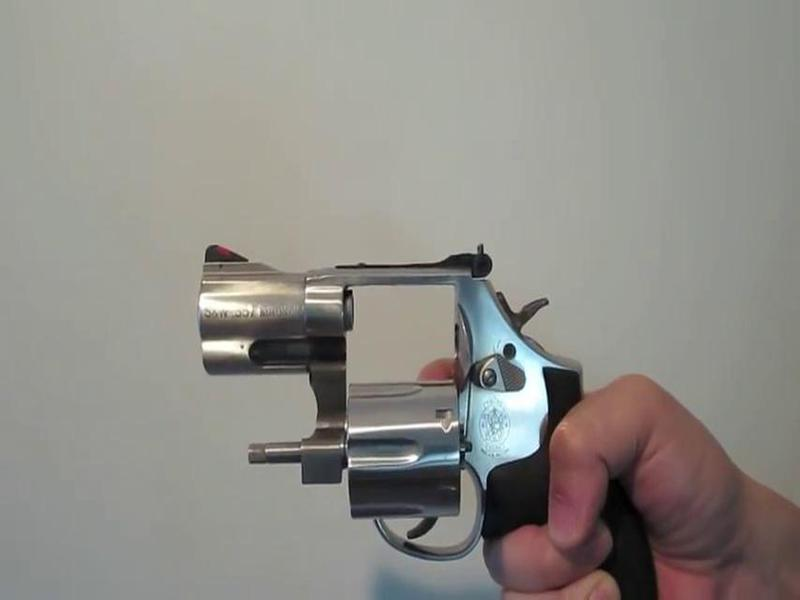Revolver: (169, 233, 665, 600)
